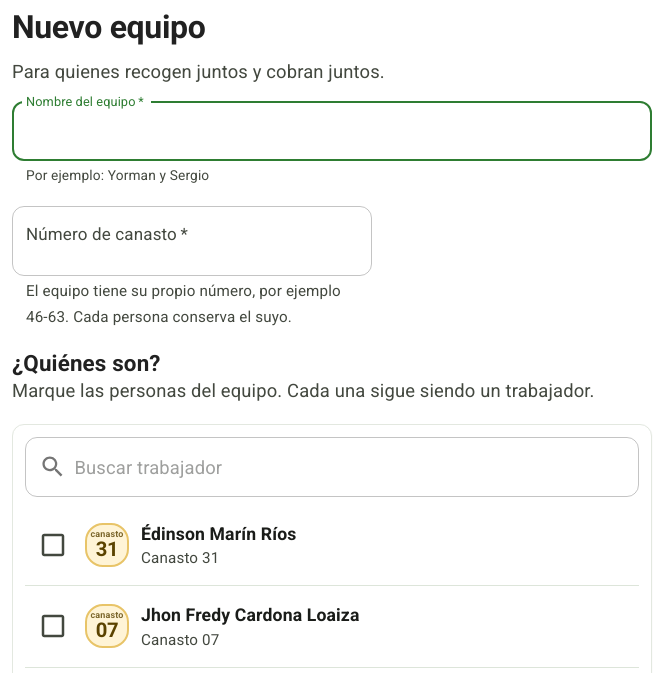
the new team form › shows the server's message when the team cannot be saved
This screenshot has width=669, height=673.
Type "Los dos" into the field labelled "Nombre del equipo *".
click(332, 131); type("Los dos")  # box [12,101,652,160]
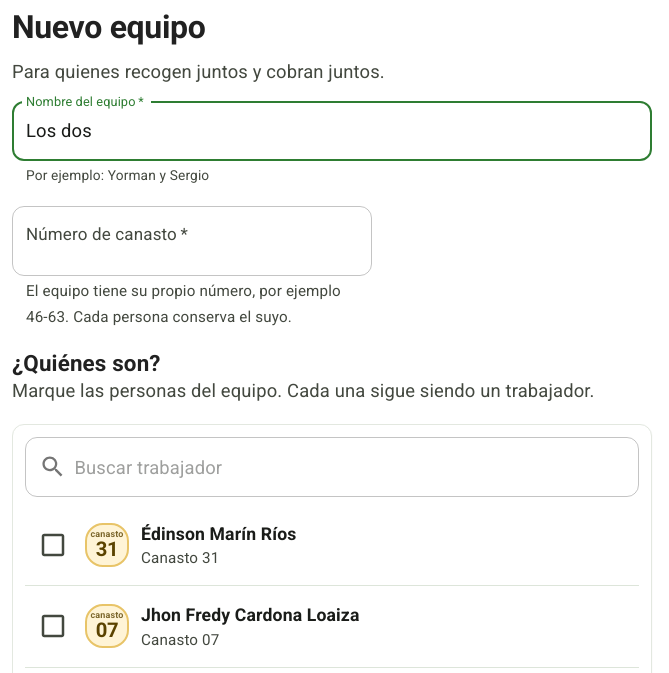
Type "46-63" into the field labelled "Número de canasto *".
click(192, 241); type("46-63")  # box [12,206,372,276]
(page scrolled)
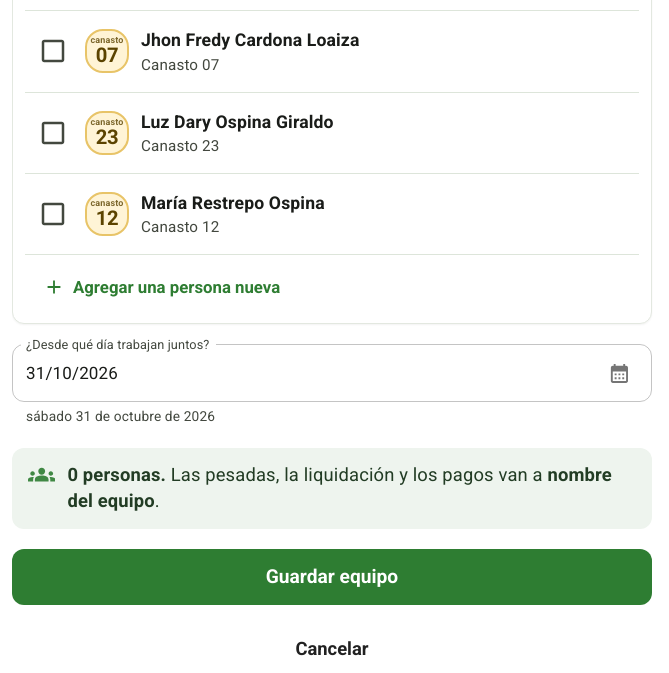
Click the button "Guardar equipo".
click(332, 577)  # box [12,549,652,605]
(page scrolled)
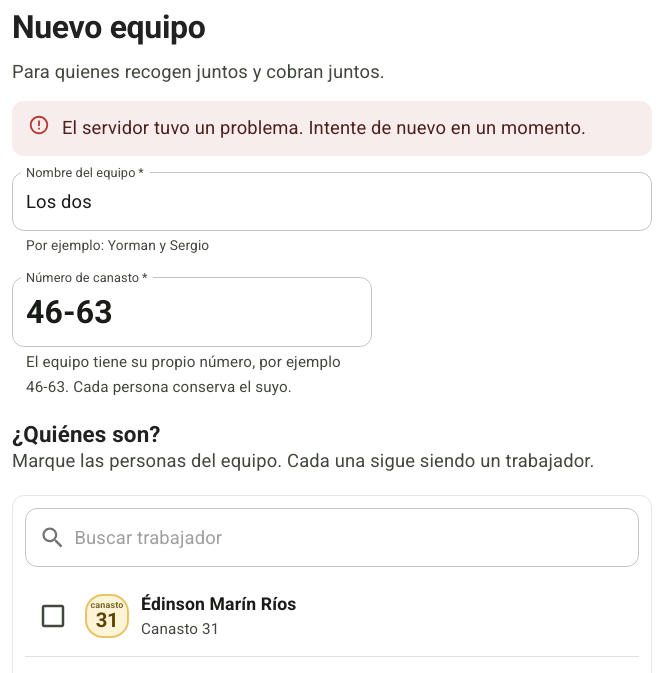
Check: the message "El servidor tuvo un problema. Intente de nuevo en un momento." is shown, box [12,101,652,156]
